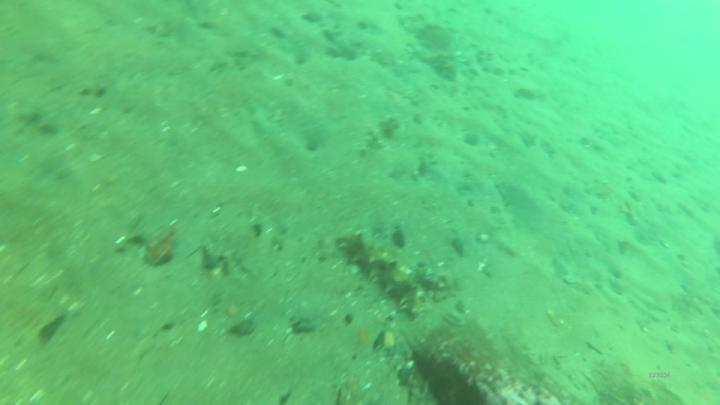holothurian: (333, 229, 427, 320)
